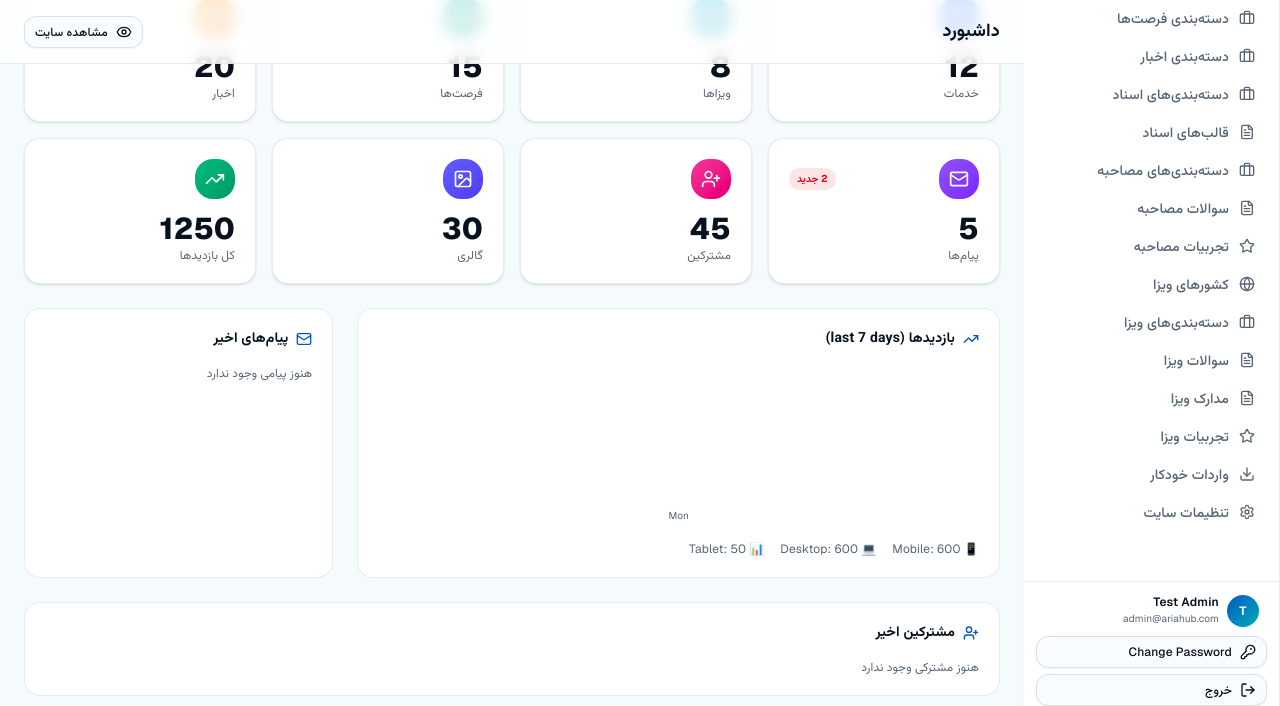
it: Settings Panel Unit Tests › Field Labels - Requirements 7.2, 7.4 › renders behavior field labels with Persian translations
The image size is (1280, 706).
(page scrolled)
Expected: the text "تنظیمات سایت" is shown, [1144,502,1229,522]
What coordinates should you click on to do the following:
click the button "تنظیمات سایت"
I would click on:
 (1152, 512)
Its box is [1036,494,1267,530].
(page scrolled)
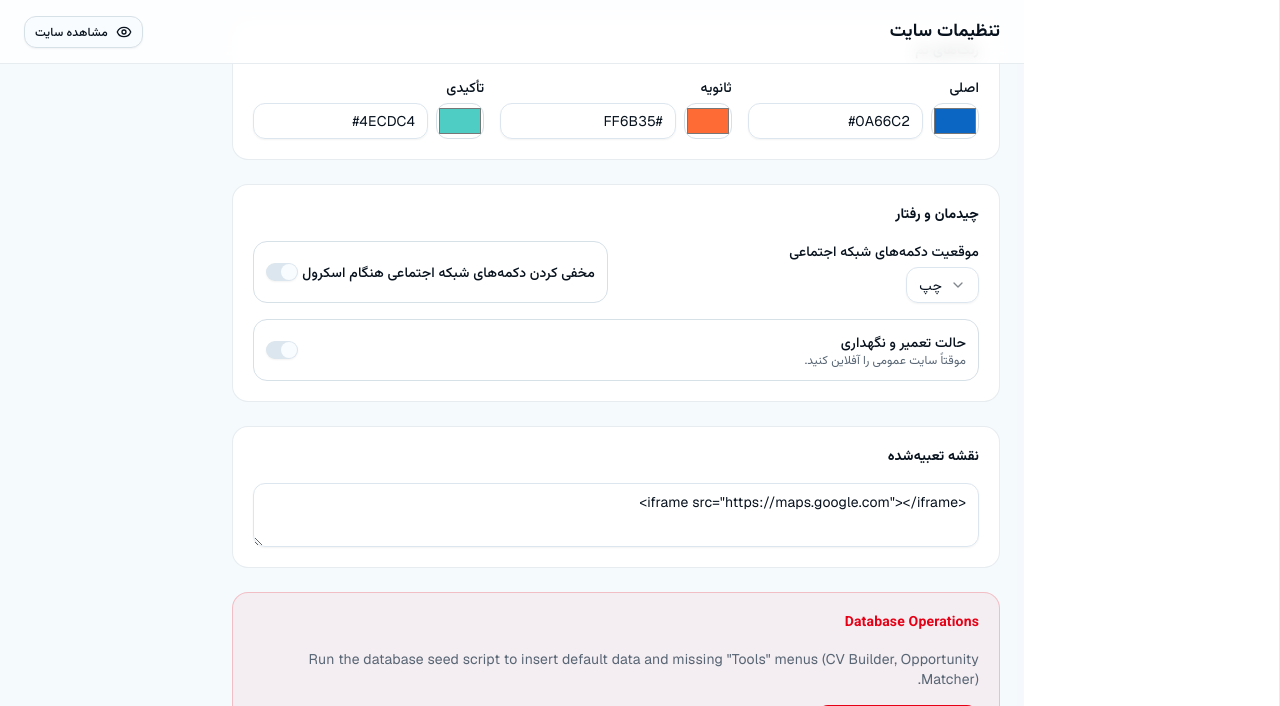
Expected: the text "موقعیت دکمه‌های شبکه اجتماعی" is shown, [789,242,979,260]
Expected: the text "مخفی کردن دکمه‌های شبکه اجتماعی هنگام اسکرول" is shown, [302,262,595,282]
Expected: the text "حالت تعمیر و نگهداری" is shown, [841,333,966,351]
